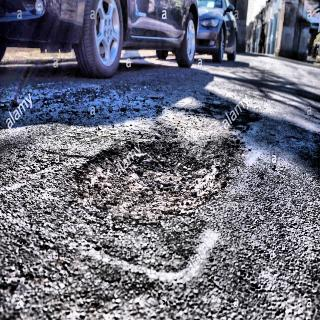pothole: (64, 115, 246, 225), (190, 85, 252, 116), (0, 96, 25, 120)
